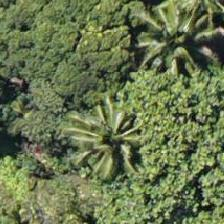coconut_tree: (61, 85, 151, 175), (130, 0, 220, 87)
